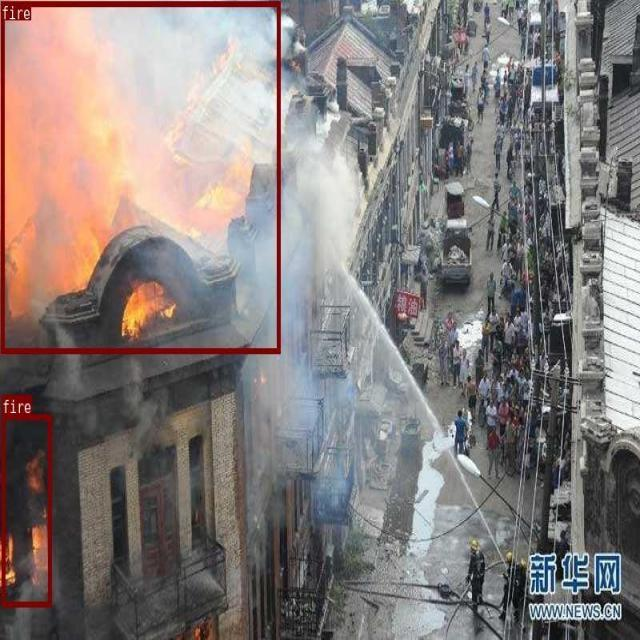fire: (1, 1, 279, 353), (1, 414, 50, 605)
